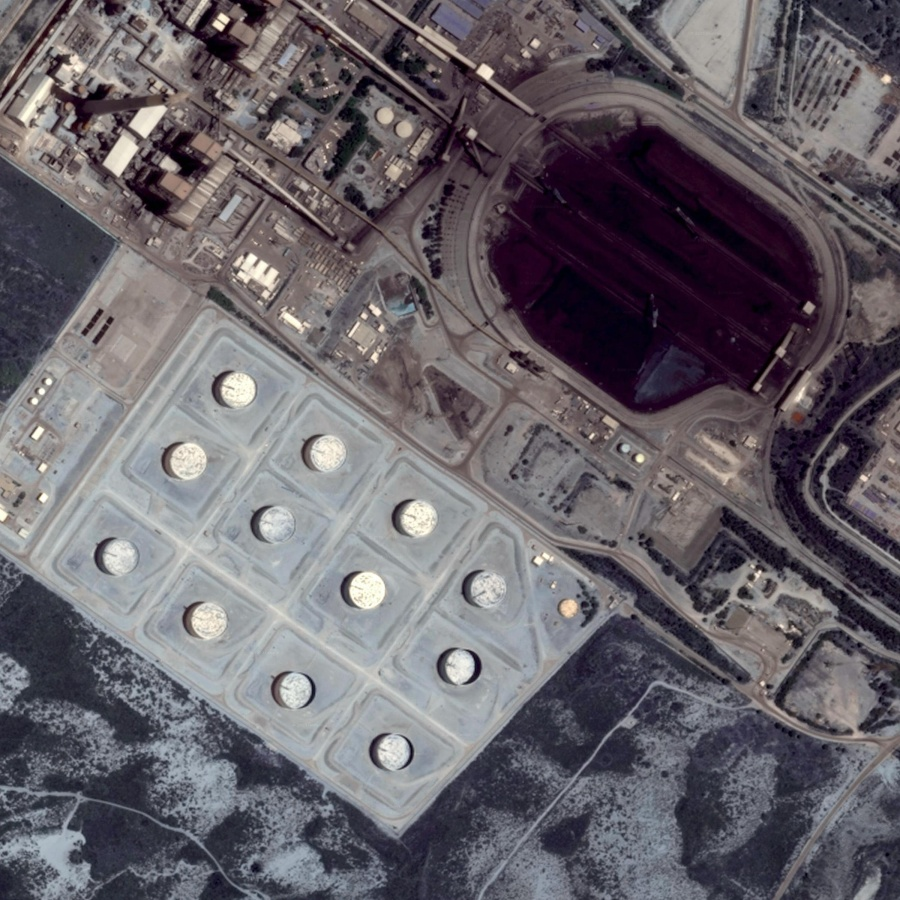PowerPlant: (59, 331, 567, 797)
